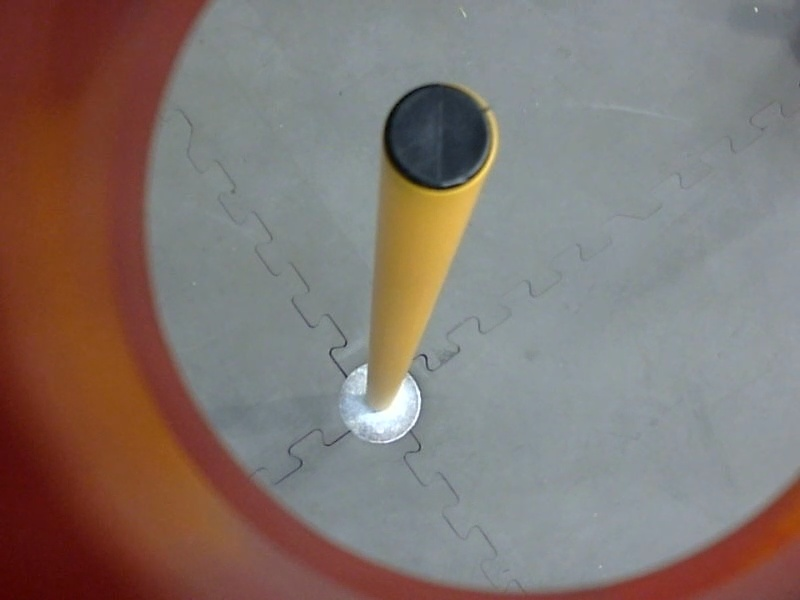tip: (374, 72, 511, 200)
